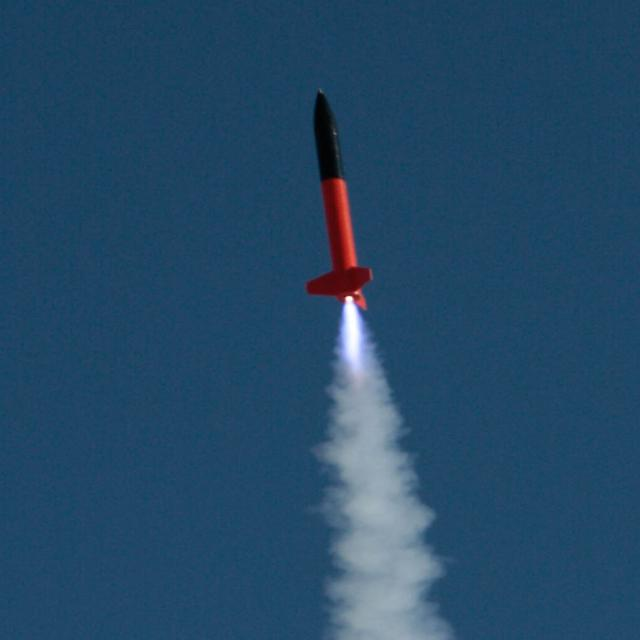Rocket: (304, 84, 373, 312)
